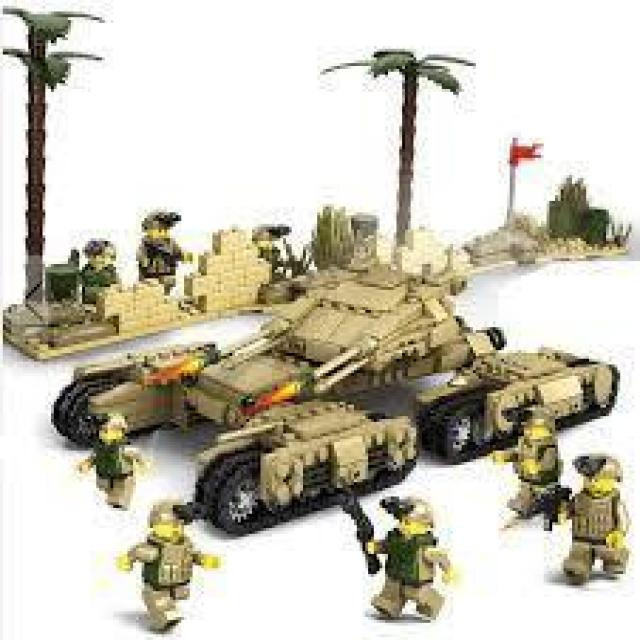Tanks: (81, 273, 613, 522)
